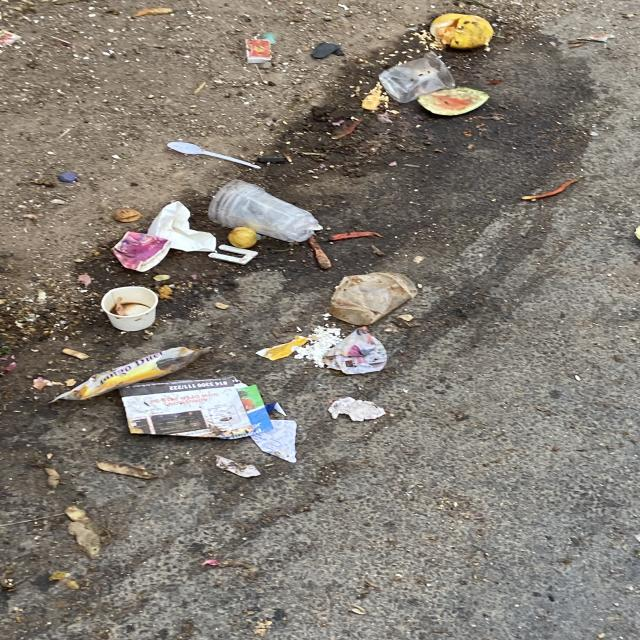biowaste: (430, 12, 494, 48), (418, 86, 489, 115)
paper: (119, 377, 271, 440), (147, 201, 216, 252), (323, 327, 387, 375), (100, 286, 157, 331), (112, 231, 170, 272), (245, 38, 271, 62)
plastic: (207, 179, 321, 242), (379, 50, 456, 102), (166, 141, 260, 168)
wrapper: (49, 347, 210, 403)
